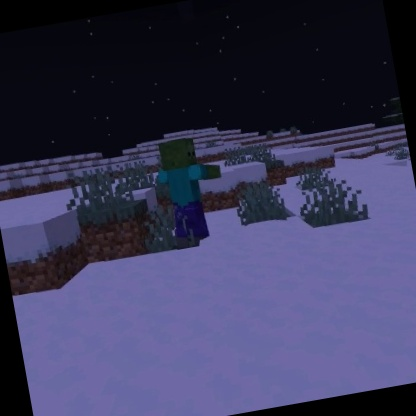zombie: (147, 129, 236, 250)
